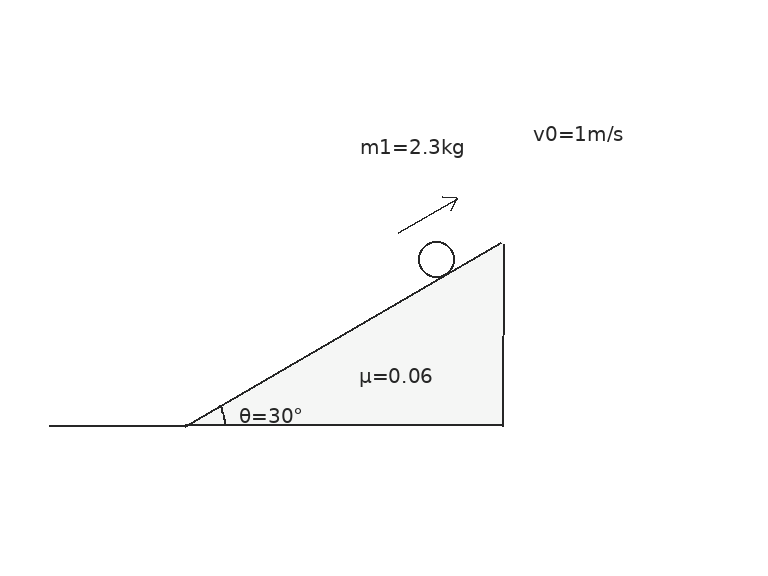ball: (416, 239, 456, 279)
ramp: (183, 239, 505, 427)
